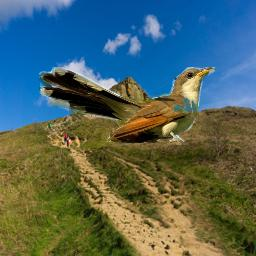Cuckoo: (39, 67, 215, 145)
